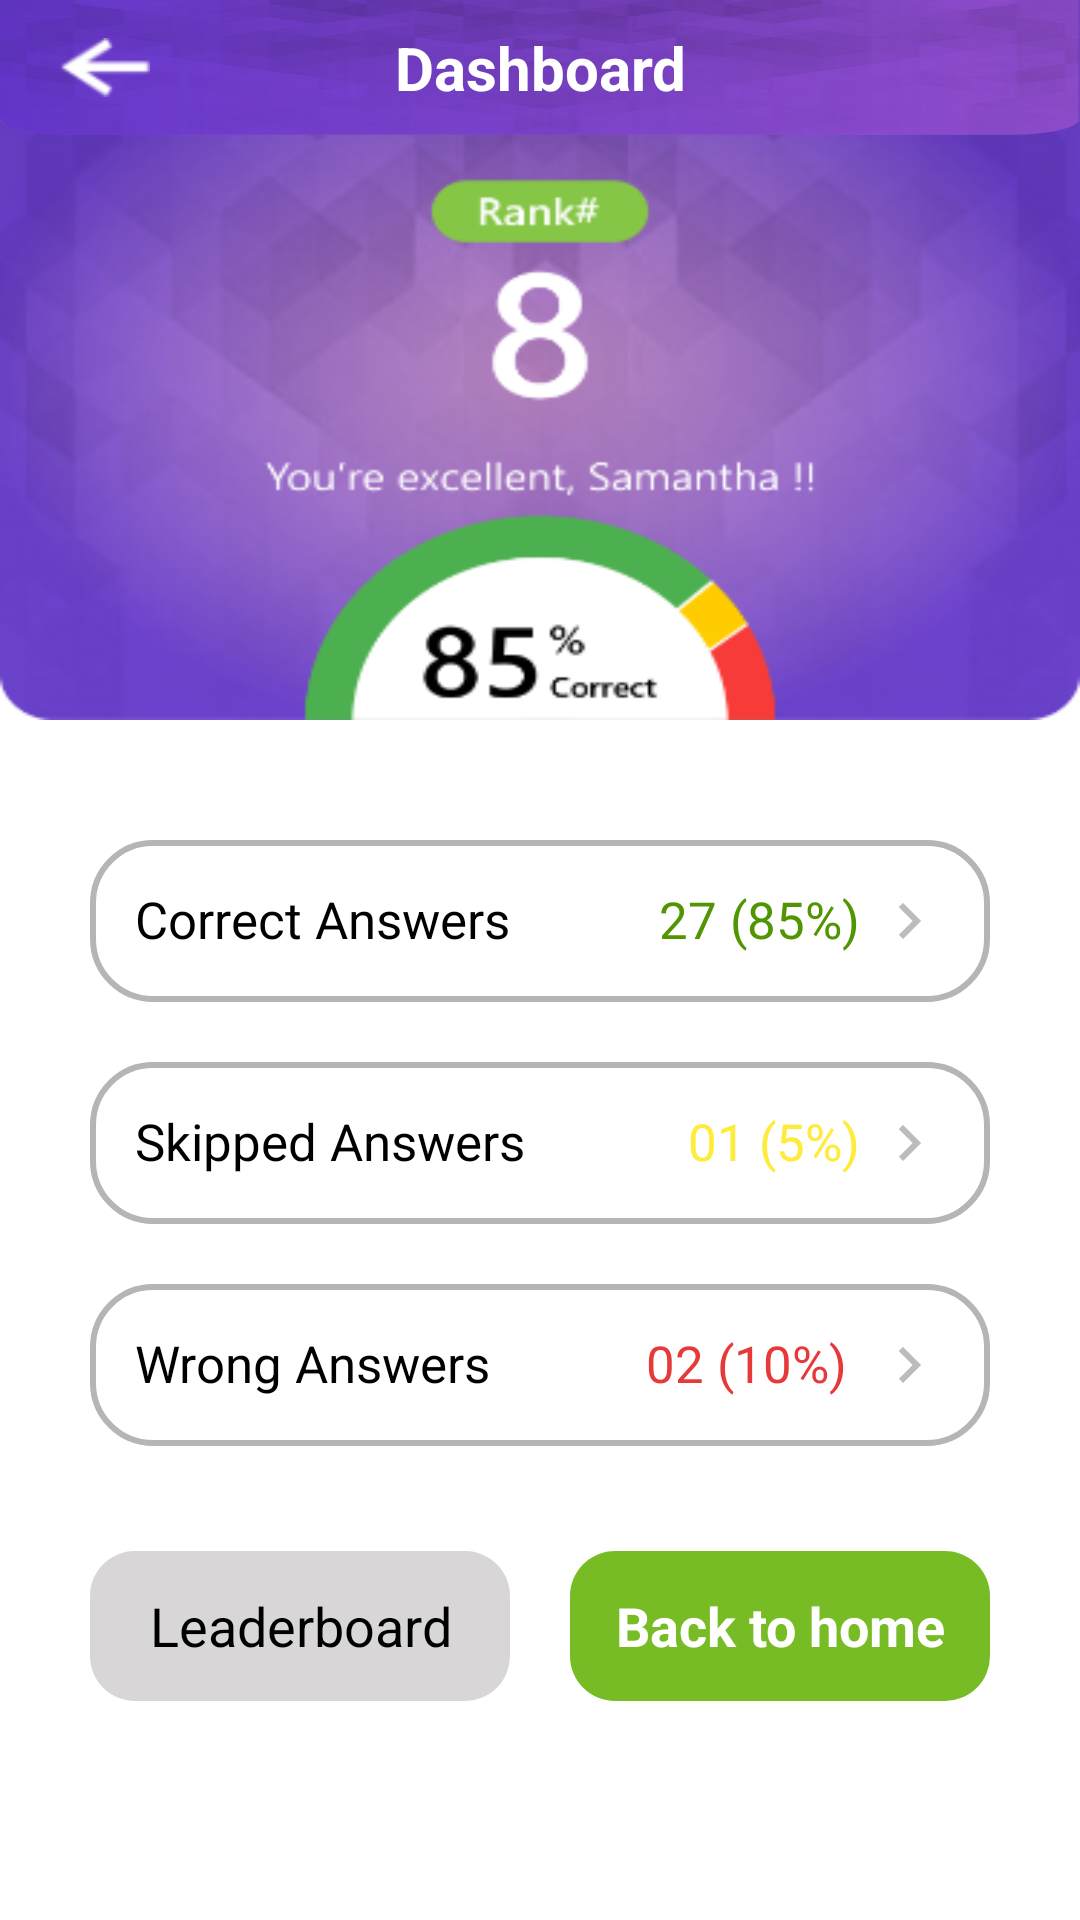

Locate icon controls on the screen. Image size 1080w x 1920h, boxes as region(x1, y1, x2, y2).
back: region(61, 38, 150, 97)
